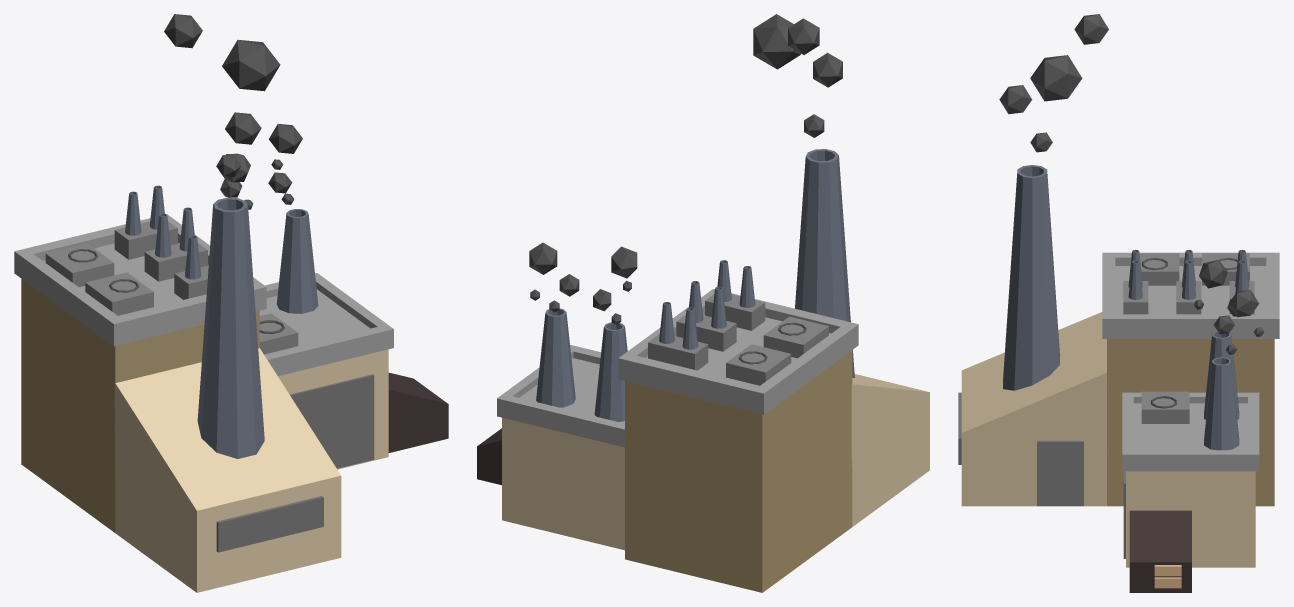
File: Factory.fbx
3 renders of one model, left to right at view 1: azimuth 30°, elevation 25°; view 2: azimuth 150°, elevation 25°; view 3: azimuth 270°, elevation 25°, orthographic. The views are drawn at different scales.
Parts seen in each view (by area): view 1: pCube13; view 2: pCube13; view 3: pCube13.
Boxes of the visible parts, x1=… form: pCube13: x1=14, y1=14, x2=448, y2=592; pCube13: x1=477, y1=14, x2=929, y2=592; pCube13: x1=958, y1=14, x2=1279, y2=592.
Bounding box in the file's own units: 14.52 × 20.03 × 12.83.
